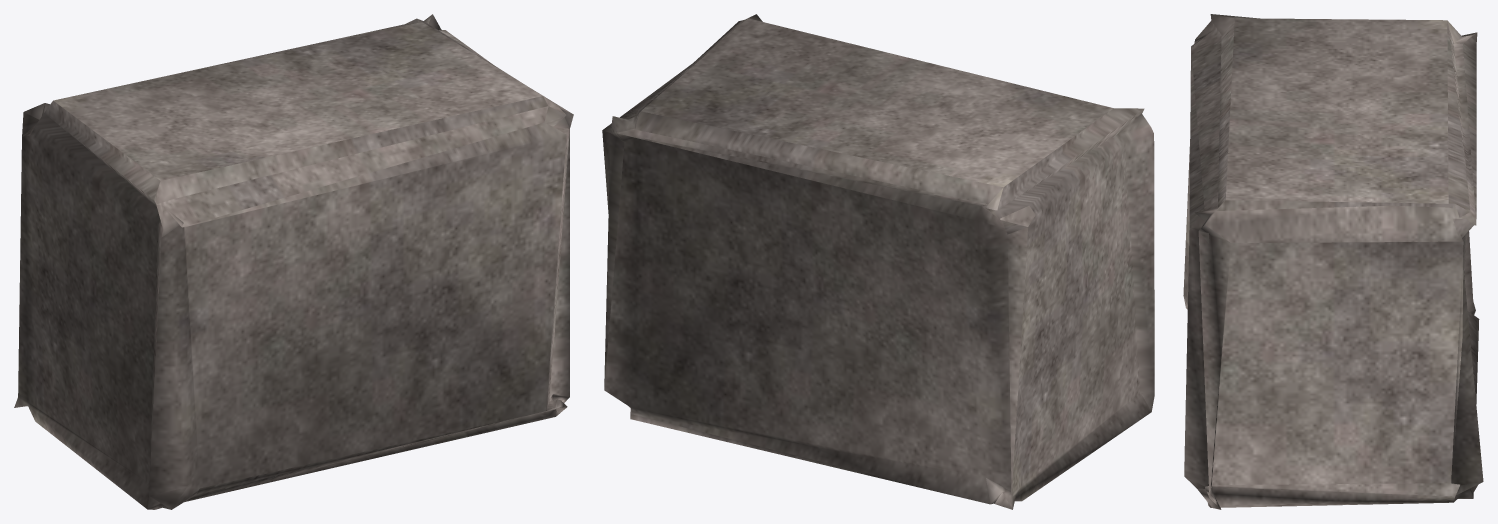
The model's file is PAV-BLQ-005.glb.
The picture shows the model from 3 angles, left to right: view 1: azimuth 30°, elevation 25°; view 2: azimuth 150°, elevation 25°; view 3: azimuth 270°, elevation 25°; orthographic projection. The views are drawn at different scales.
Visible parts, largest first — view 1: PAV-BLQ-005_peca; view 2: PAV-BLQ-005_peca; view 3: PAV-BLQ-005_peca.
Boxes of the visible parts, <box> form: PAV-BLQ-005_peca: <box>14,14,573,509</box>; PAV-BLQ-005_peca: <box>602,14,1154,509</box>; PAV-BLQ-005_peca: <box>1183,14,1483,509</box>.
Size of the model in its own units: 0.1891 by 0.134 by 0.1178.
1 material, 1 textured.
